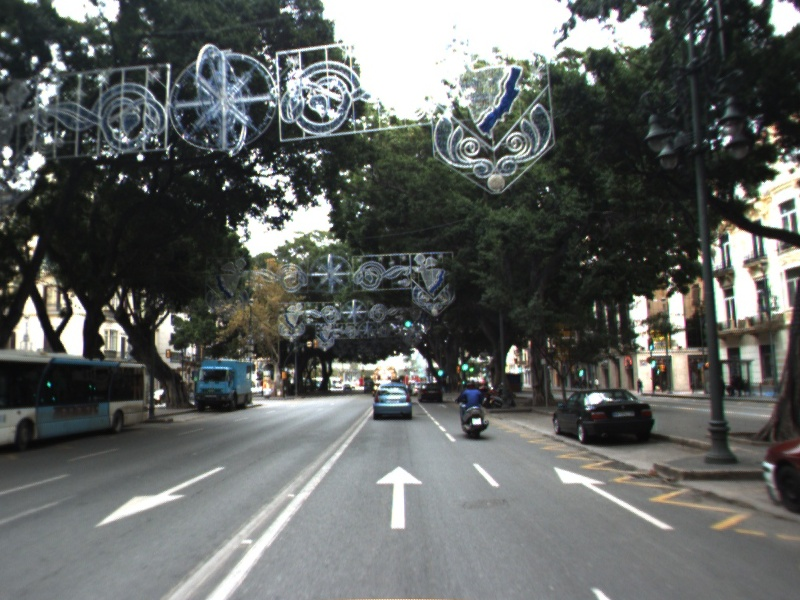STRAIGHT: (552, 465, 677, 532), (374, 464, 425, 530)
